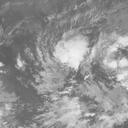cyclone: (53, 27, 89, 72)
